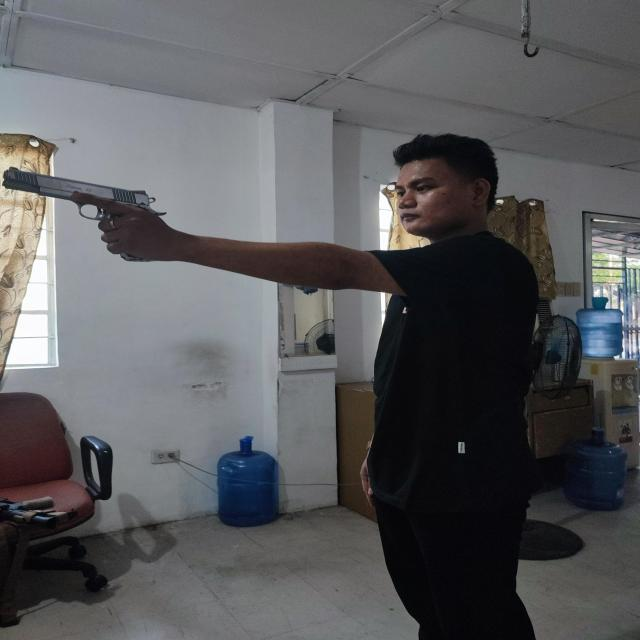pistol: (3, 167, 167, 224)
